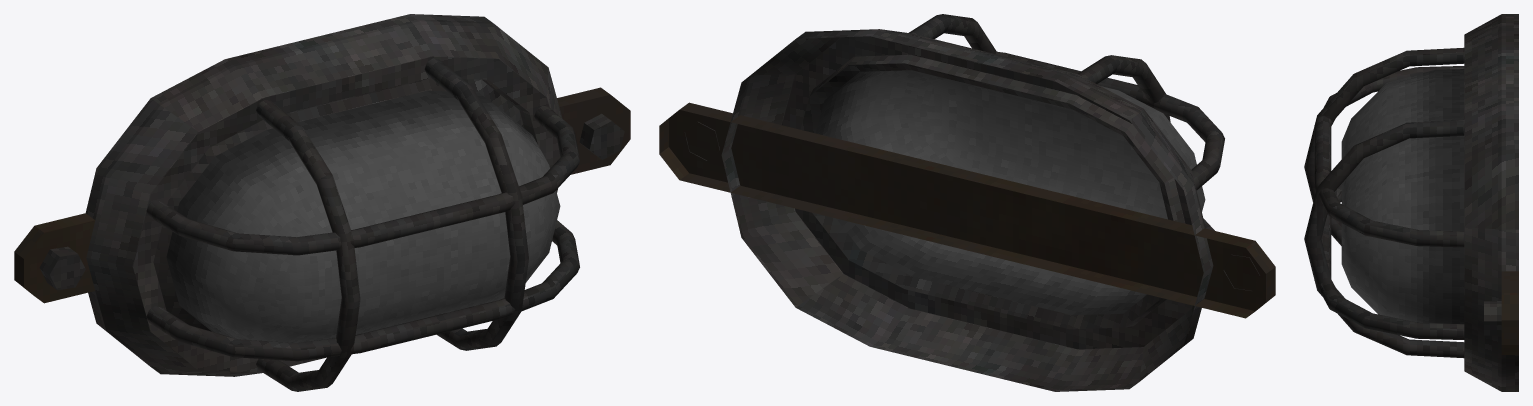
File: lamp_2_off.glb
The picture shows the model from 3 angles, left to right: view 1: azimuth 30°, elevation 25°; view 2: azimuth 150°, elevation 25°; view 3: azimuth 270°, elevation 25°; orthographic projection. The views are drawn at different scales.
Visible parts, largest first — view 1: lamp_2_off; view 2: lamp_2_off; view 3: lamp_2_off.
Part boxes in pixels (<box>): lamp_2_off: <box>14,14,630,391</box>; lamp_2_off: <box>659,14,1275,391</box>; lamp_2_off: <box>1304,14,1518,391</box>.
Size of the model in its own units: 0.36 by 0.176 by 0.126.
4 materials, 4 textured.
